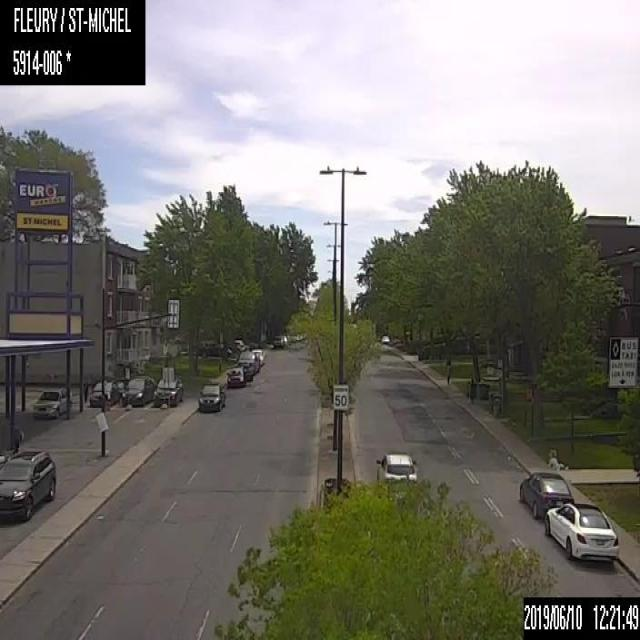vehicle: (518, 468, 619, 561), (0, 448, 57, 522), (374, 448, 417, 480), (31, 385, 73, 417), (121, 374, 155, 405), (88, 379, 122, 408), (153, 375, 183, 406), (196, 381, 224, 413), (237, 350, 260, 375), (198, 340, 230, 357), (224, 365, 245, 386), (271, 331, 285, 349)
